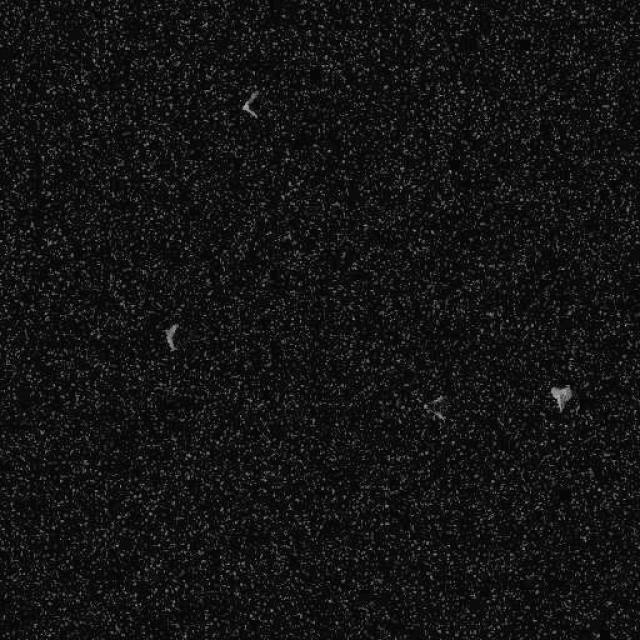D2: (422, 393, 447, 422), (548, 384, 572, 411), (240, 89, 260, 119), (162, 321, 178, 351)
